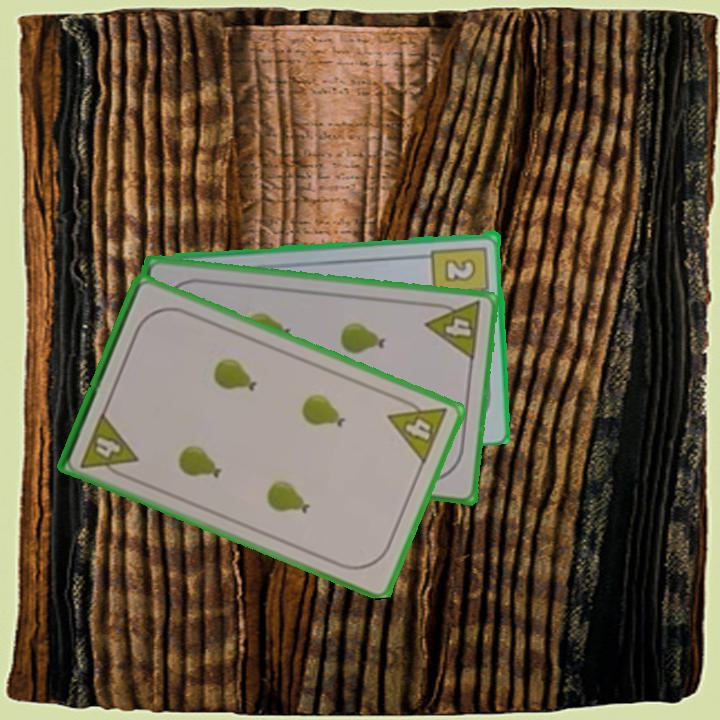2b: (429, 242, 493, 304)
4p: (384, 392, 451, 467), (77, 408, 141, 482), (422, 298, 485, 363)
